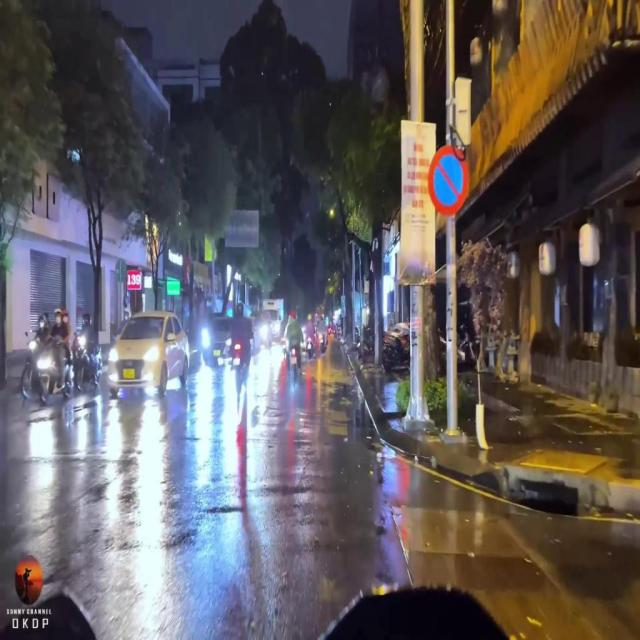cam_do_xe: (428, 144, 469, 216)
